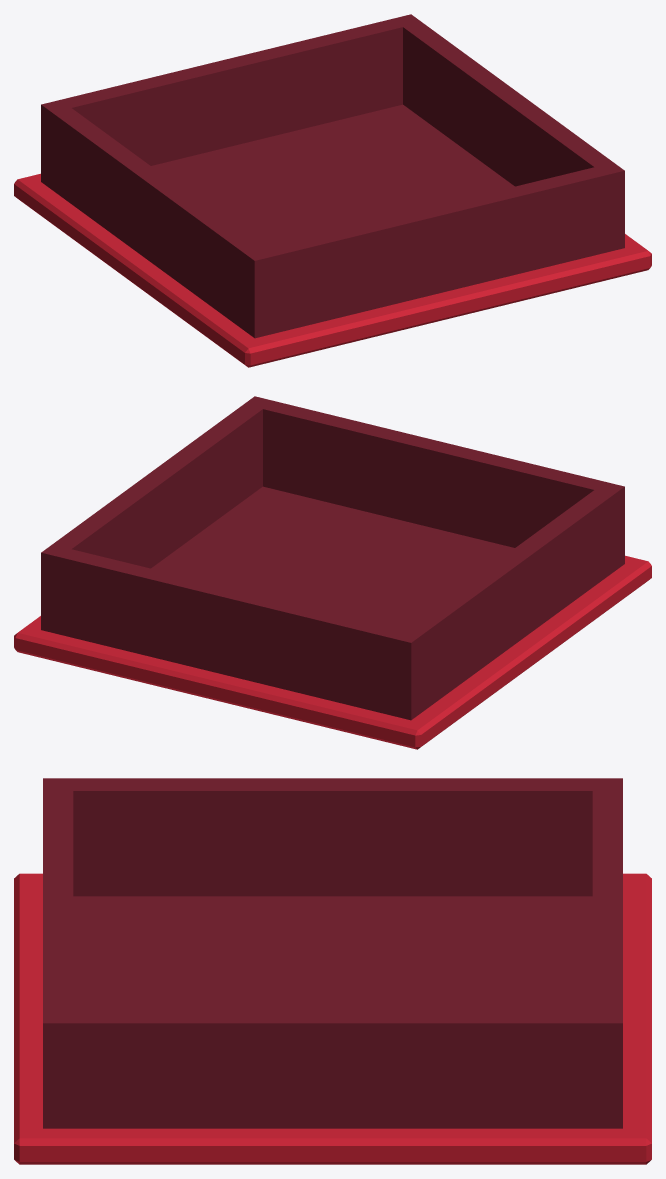
File: tower_bottom_002_msh.fbx
3 views of the same model, one above another, from view 1: azimuth 30°, elevation 25°; view 2: azimuth 150°, elevation 25°; view 3: azimuth 270°, elevation 25° (orthographic). The views are drawn at different scales.
Parts seen in each view (by area): view 1: tower_bottom_002_msh; view 2: tower_bottom_002_msh; view 3: tower_bottom_002_msh.
Part boxes in pixels (x1,y1,x2,y2): tower_bottom_002_msh: [14, 14, 651, 367]; tower_bottom_002_msh: [14, 396, 651, 749]; tower_bottom_002_msh: [14, 778, 651, 1164].
Size of the model in its own units: 440 by 100 by 440.
